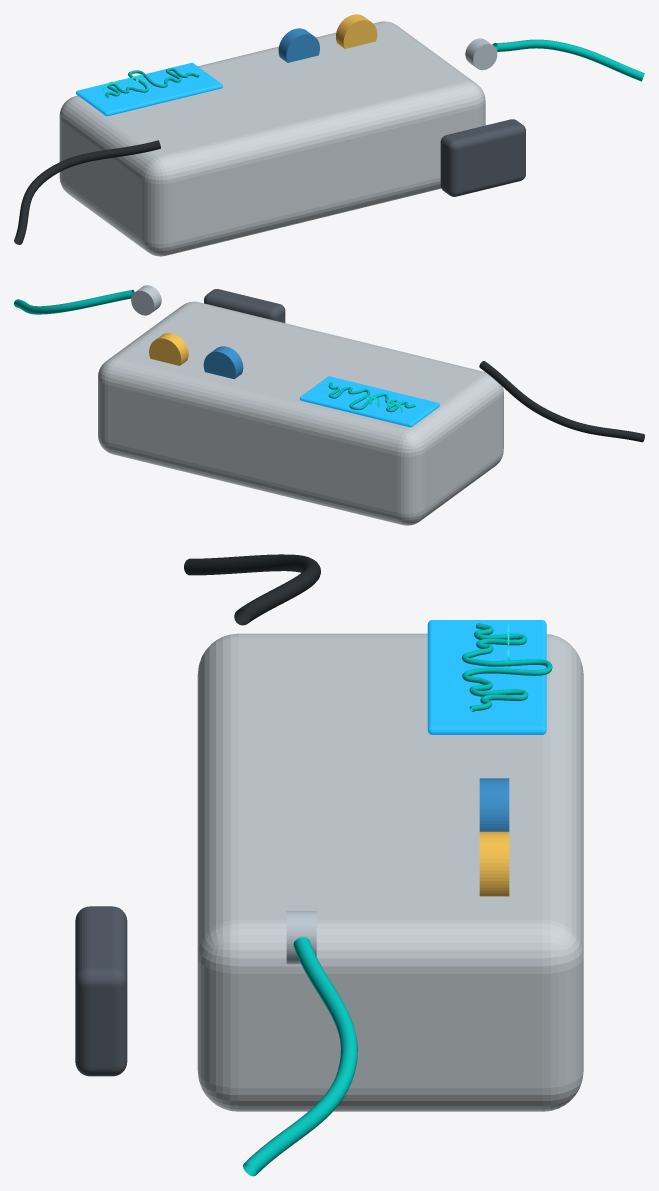
The model's file is electrosurgery.glb.
3 views of the same model, one above another, from view 1: azimuth 30°, elevation 25°; view 2: azimuth 150°, elevation 25°; view 3: azimuth 270°, elevation 25° (orthographic). The views are drawn at different scales.
Visible parts, largest first — view 1: esu body, foot pedal, esu display, active pencil cable, return pad cable, cut output, coag output, return port, screen waveform; view 2: esu body, esu display, active pencil cable, foot pedal, return pad cable, cut output, coag output, return port, screen waveform; view 3: esu body, esu display, foot pedal, return pad cable, active pencil cable, screen waveform, coag output, cut output, return port.
Boxes of the visible parts, box(x1,y1,x2,y2) form: esu body: box(59, 21, 485, 256); foot pedal: box(440, 119, 525, 196); esu display: box(76, 62, 222, 116); active pencil cable: box(14, 140, 160, 244); return pad cable: box(492, 39, 644, 81); cut output: box(278, 28, 319, 62); coag output: box(336, 14, 377, 48); return port: box(465, 38, 497, 70); screen waveform: box(105, 68, 199, 98); esu body: box(98, 301, 503, 525); esu display: box(299, 376, 439, 427); active pencil cable: box(479, 361, 644, 442); foot pedal: box(204, 289, 285, 322); return pad cable: box(14, 289, 134, 314); cut output: box(203, 346, 243, 379); coag output: box(149, 333, 188, 365); return port: box(131, 285, 161, 315); screen waveform: box(328, 382, 415, 412); esu body: box(197, 633, 583, 1111); esu display: box(427, 620, 546, 734); foot pedal: box(75, 906, 127, 1076); return pad cable: box(243, 937, 357, 1176); active pencil cable: box(184, 554, 320, 625); screen waveform: box(462, 623, 552, 711); coag output: box(479, 831, 509, 896); cut output: box(479, 778, 509, 831); return port: box(286, 911, 316, 964).
Bounding box in the file's own units: 3.83 × 0.7 × 1.37.
